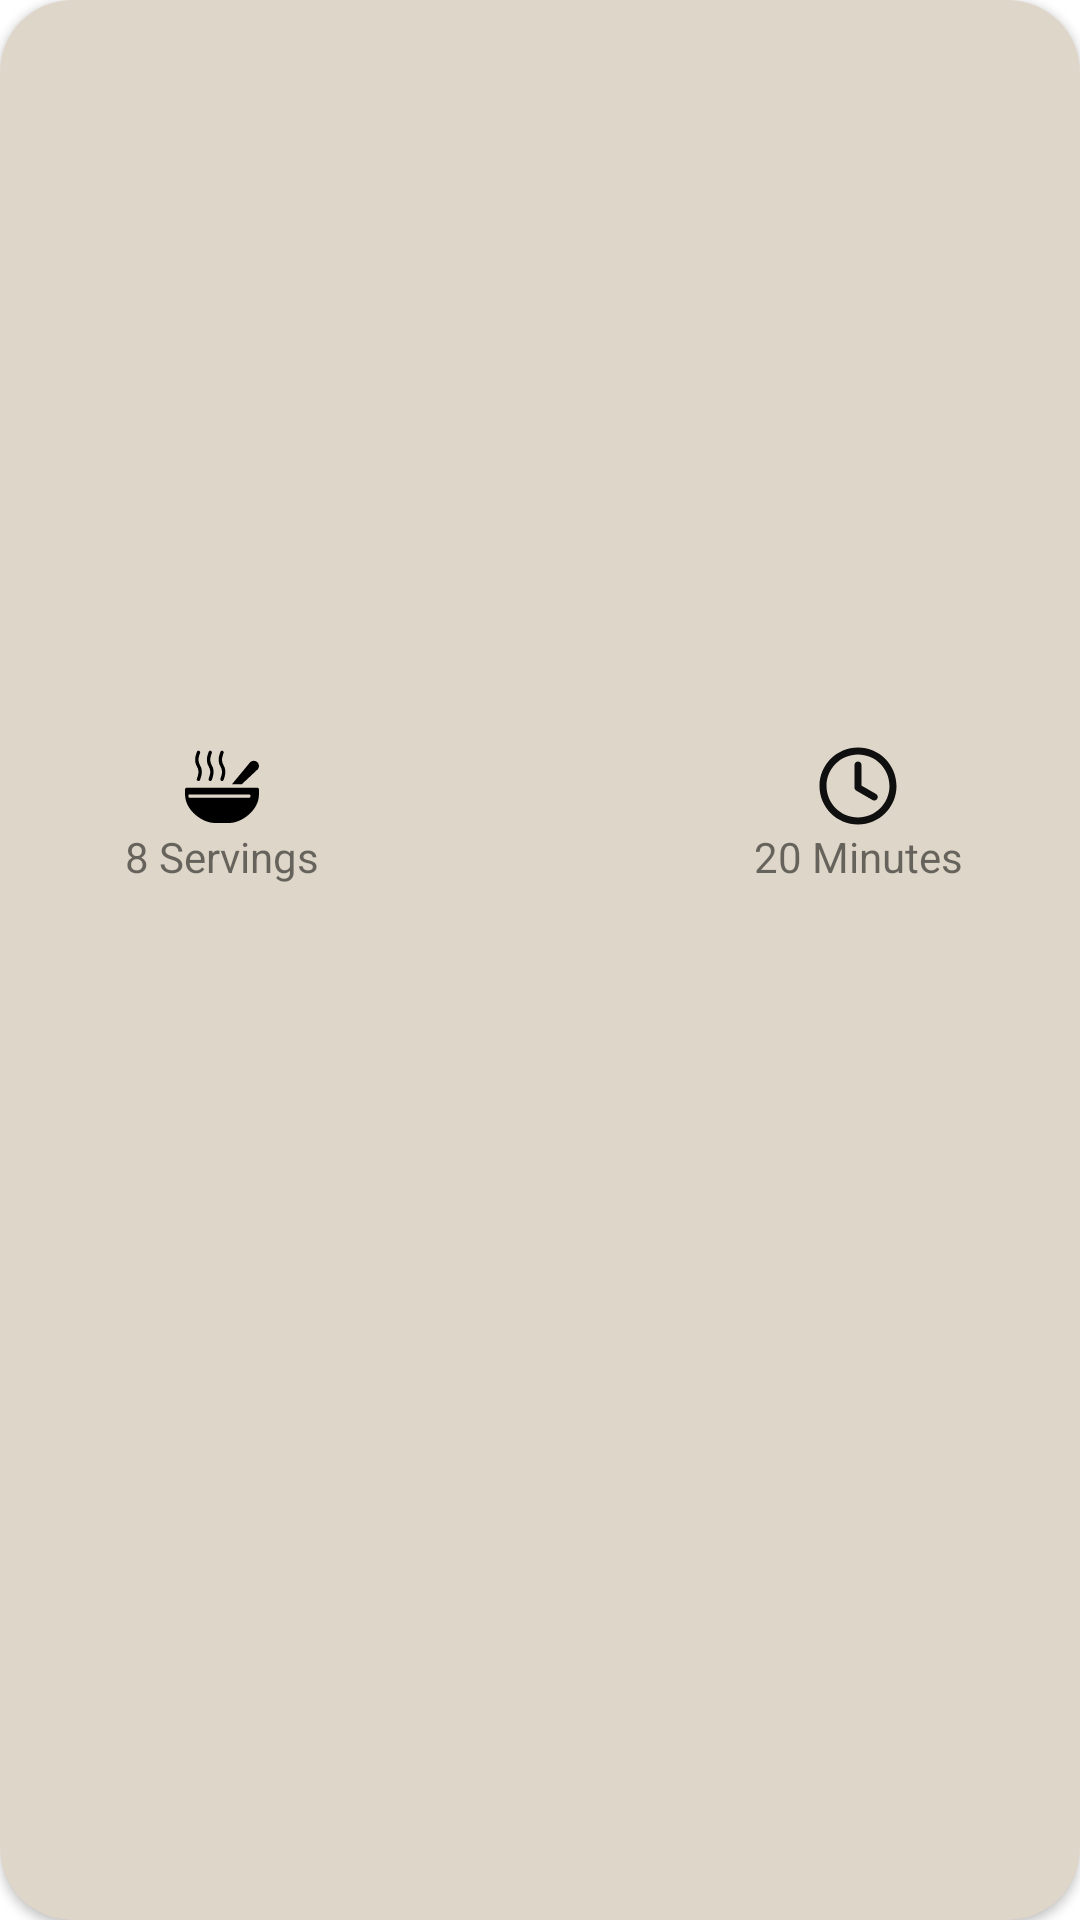

Locate icon controls on the screen. Image size 1080*1920, boxes as (x1, y1, x2, y2).
time: (819, 747, 897, 825)
